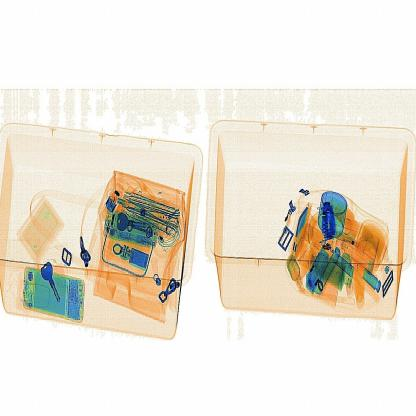scissors: (320, 195, 344, 247)
